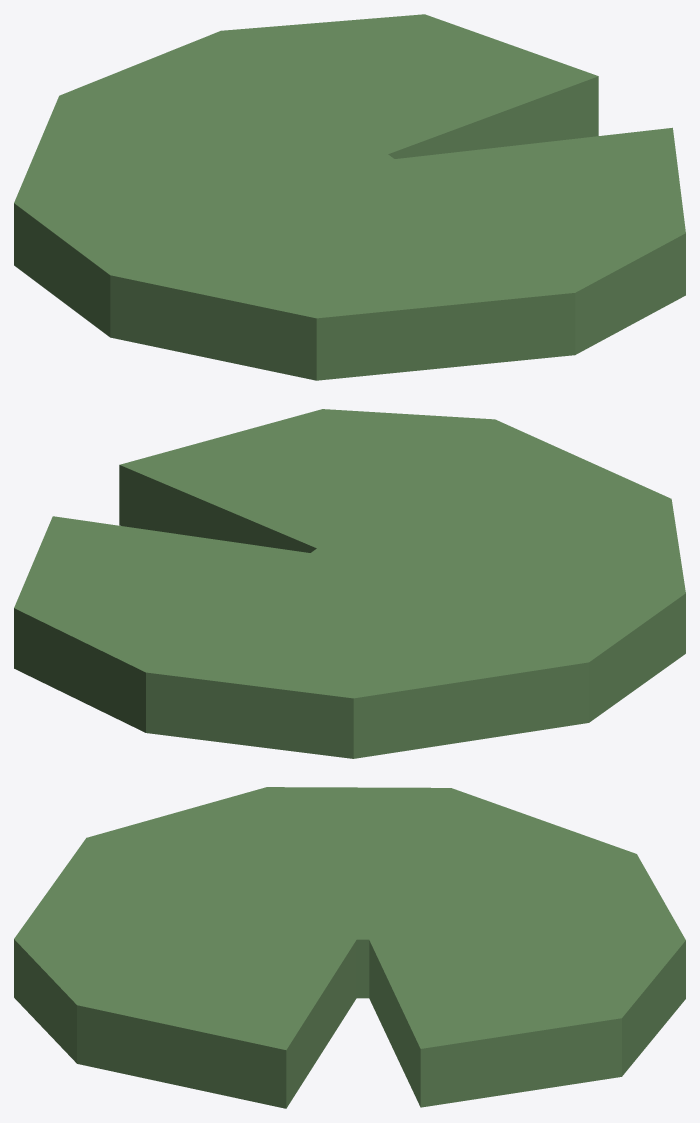
File: env_lilypadleaf_mesh_01_v1.glb
The picture shows the model from 3 angles, top to bottom: view 1: azimuth 30°, elevation 25°; view 2: azimuth 150°, elevation 25°; view 3: azimuth 270°, elevation 25°; orthographic projection. The views are drawn at different scales.
Parts seen in each view (by area): view 1: WaterLilyLeaf; view 2: WaterLilyLeaf; view 3: WaterLilyLeaf.
Boxes of the visible parts, x1,y1,x2,y2 form: WaterLilyLeaf: (14,14,685,380); WaterLilyLeaf: (14,409,685,758); WaterLilyLeaf: (14,787,685,1108).
Size of the model in its own units: 1.92 by 0.2 by 2.08.
